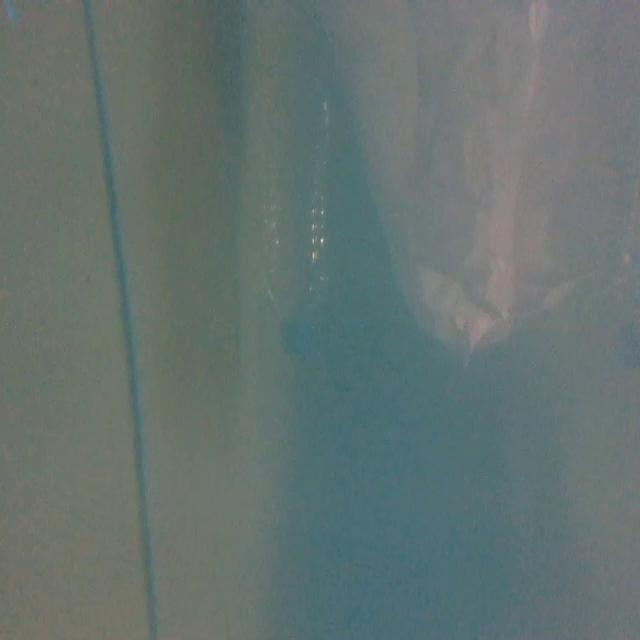plastic bags: (360, 0, 640, 361)
plastic bottle: (254, 72, 341, 378)
